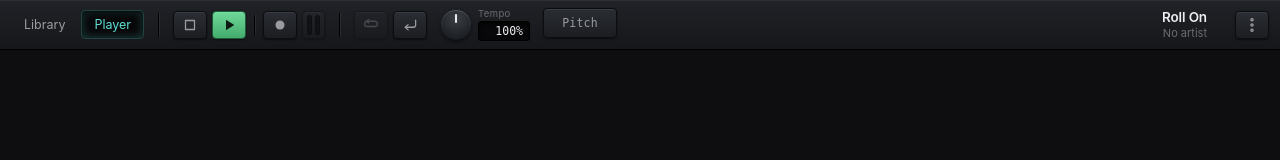
Test: the pitch controls in the header › shows them when it is
Click the button with aria-label "Pitch controls" at (580, 23), box [543,8,617,38]
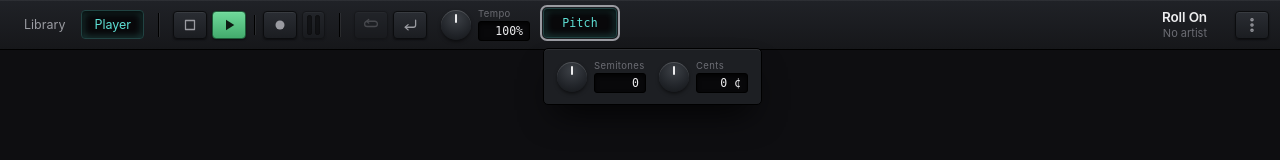
Now the slider named "Semitones" is shown, box [557,62,587,92]
Now the slider named "Cents" is shown, box [659,62,689,92]
